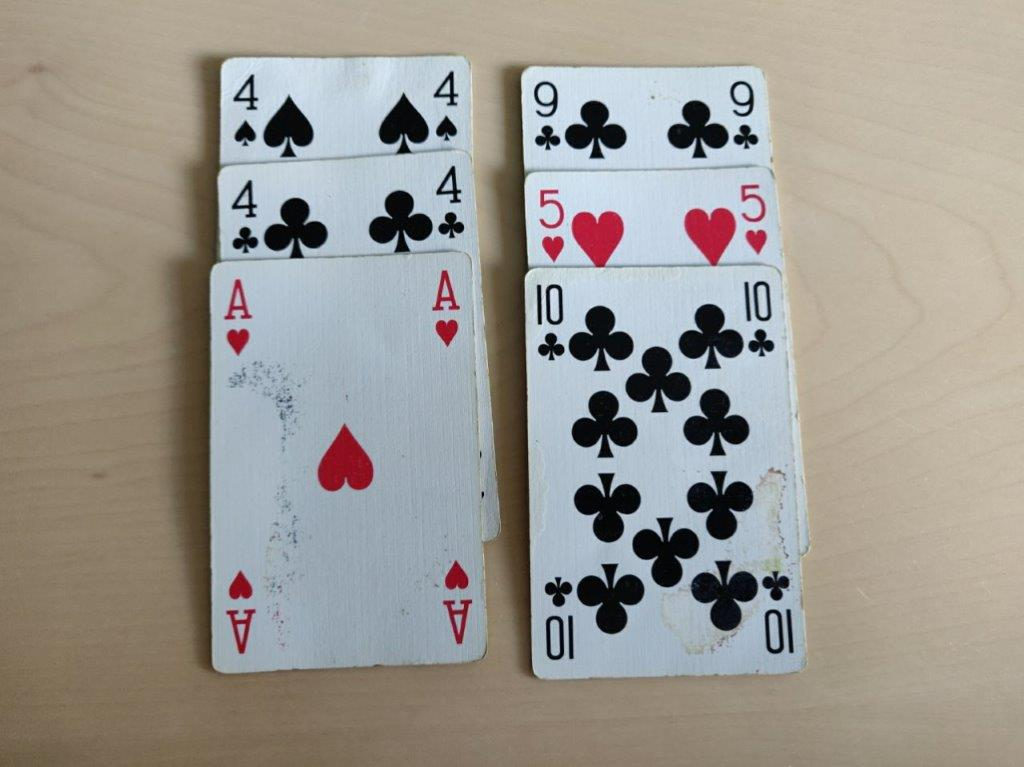10C: (529, 278, 567, 361), (738, 274, 776, 357)
4C: (228, 174, 262, 256), (432, 162, 466, 244)
4S: (231, 68, 261, 146), (432, 65, 462, 143)
5H: (532, 183, 569, 263), (735, 177, 772, 257)
9C: (528, 78, 564, 155), (727, 76, 763, 153)
AH: (428, 264, 462, 350), (222, 274, 255, 358)
